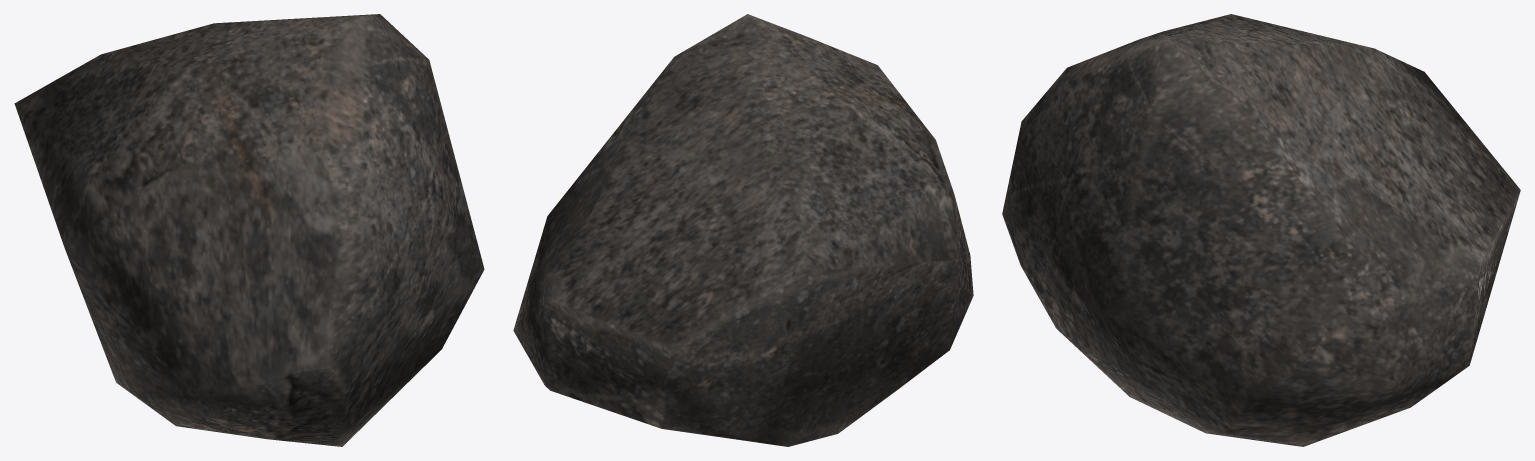
File: SM_SmallRocks_1.fbx
3 views of the same model, side by side, from view 1: azimuth 30°, elevation 25°; view 2: azimuth 150°, elevation 25°; view 3: azimuth 270°, elevation 25° (orthographic). The views are drawn at different scales.
Parts seen in each view (by area): view 1: SM_SmallRocks_1_LOD0; view 2: SM_SmallRocks_1_LOD0; view 3: SM_SmallRocks_1_LOD0.
Boxes of the visible parts, x1=… form: SM_SmallRocks_1_LOD0: x1=14, y1=14, x2=484, y2=446; SM_SmallRocks_1_LOD0: x1=513, y1=14, x2=973, y2=446; SM_SmallRocks_1_LOD0: x1=1002, y1=14, x2=1520, y2=446.
Size of the model in its own units: 18.83 by 21.7 by 17.67.
